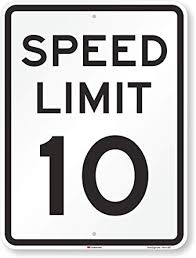sp10: (19, 116, 175, 236)
